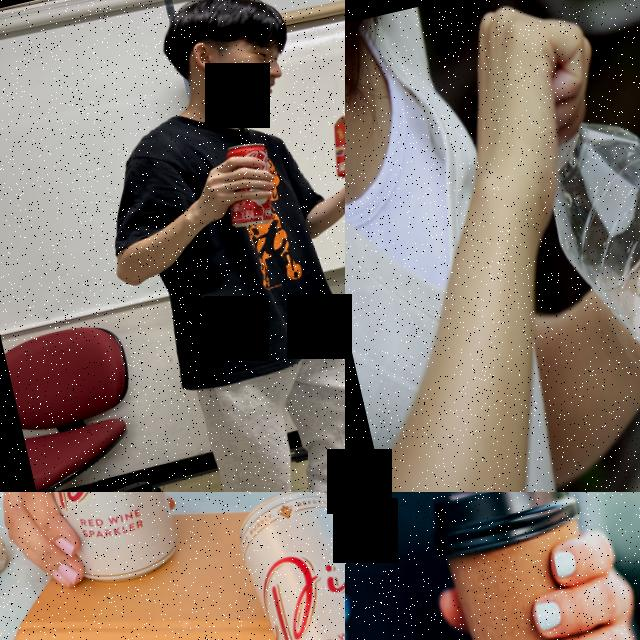bottle: (531, 73, 640, 492)
can: (10, 492, 188, 595), (229, 492, 345, 640), (212, 138, 284, 232)
cup: (427, 492, 640, 640)
